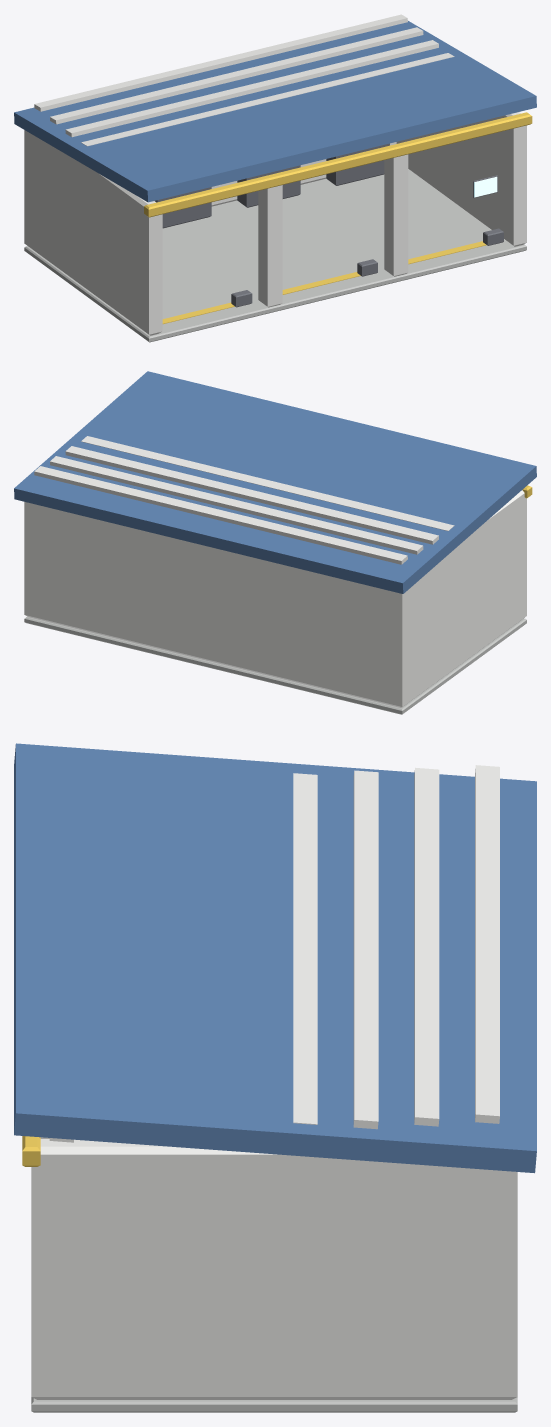
File: gse.glb
3 views of the same model, one above another, from view 1: azimuth 30°, elevation 25°; view 2: azimuth 150°, elevation 25°; view 3: azimuth 270°, elevation 25° (orthographic). The views are drawn at different scales.
Parts seen in each view (by area): view 1: gse-store; view 2: gse-store; view 3: gse-store.
Boxes of the visible parts, box(x1,y1,x2,y2) form: gse-store: box(14, 14, 536, 342); gse-store: box(14, 371, 536, 714); gse-store: box(14, 743, 536, 1412).
Bounding box in the file's own units: 14.4 × 5.54 × 8.6.
